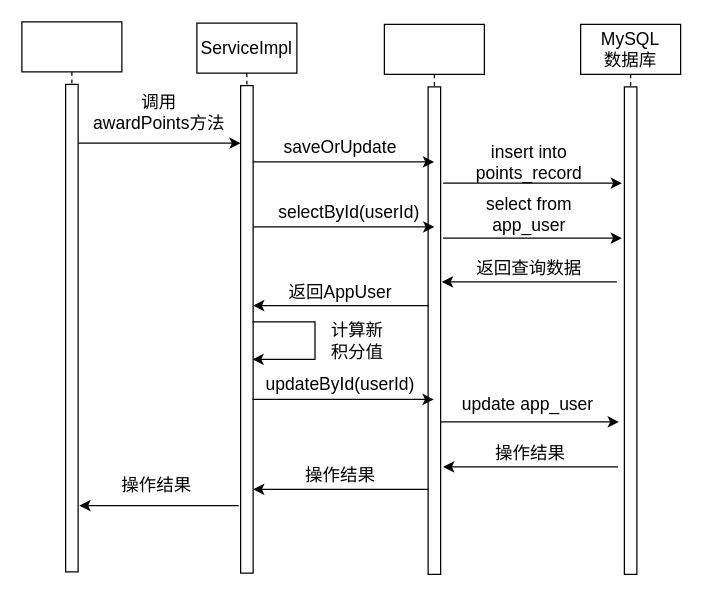
Some shapes in this 703 by 596 pixel diagram are drawn without their labels. Here are the shapes that lost their labels. From the top down, the box of each, then its label:
(21, 21, 122, 534): Controller
(383, 23, 484, 574): MyBatis Mapper
